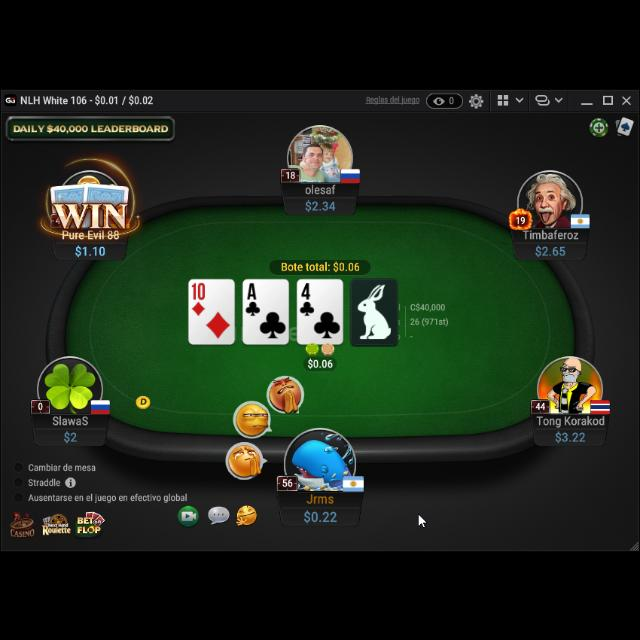4c: (298, 278, 316, 316)
Ac: (244, 280, 262, 318)
Td: (190, 280, 208, 316)
bet_text: (306, 353, 336, 367)
card_back: (82, 180, 128, 208), (50, 180, 90, 210)
dealer: (134, 389, 152, 407)
pot_text: (282, 258, 362, 270)
stack_text: (301, 505, 339, 521), (303, 195, 337, 209), (534, 241, 566, 255), (75, 241, 107, 255), (554, 426, 586, 439), (64, 426, 78, 438)
